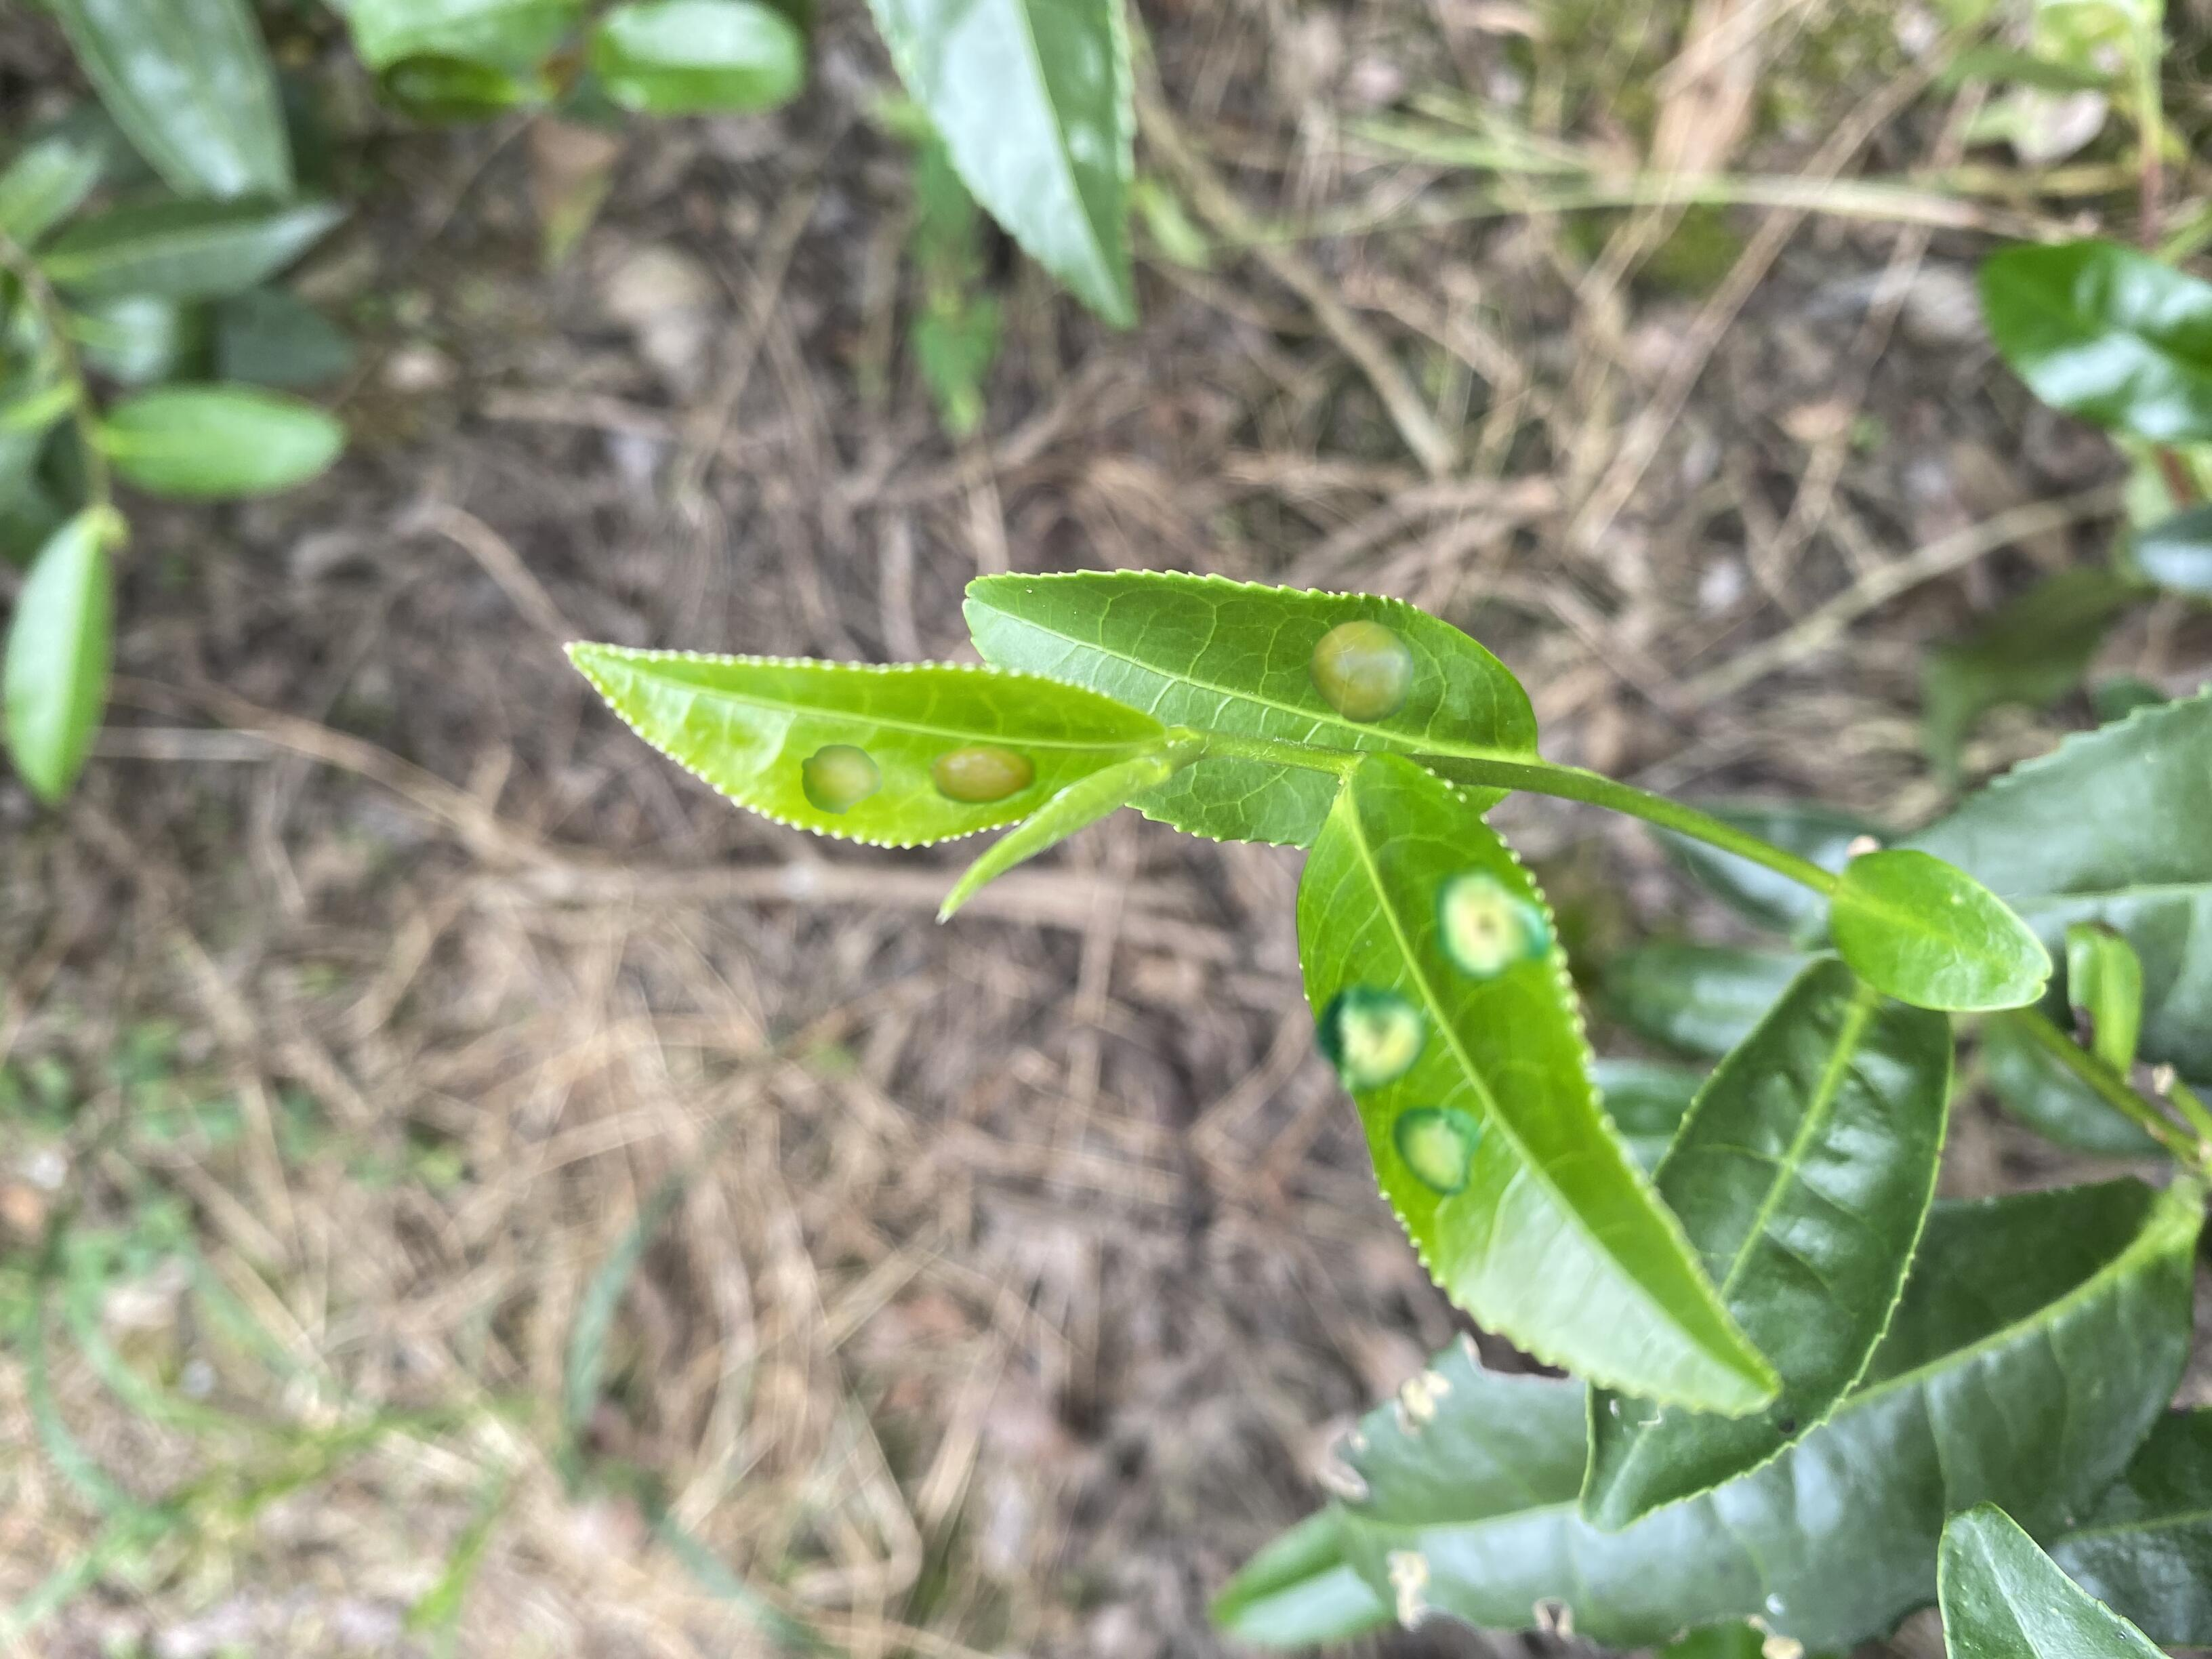chabing_high: (1296, 753, 1782, 1425), (563, 636, 1167, 856)
chabing_low: (961, 568, 1540, 852)
healthy: (1825, 850, 2054, 1012)
